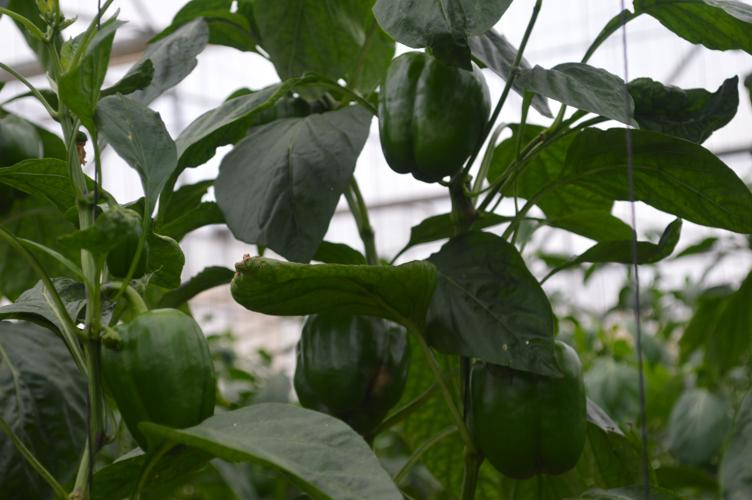BellPepper: (457, 335, 595, 479), (375, 39, 500, 194), (89, 304, 223, 445), (283, 303, 411, 424)
